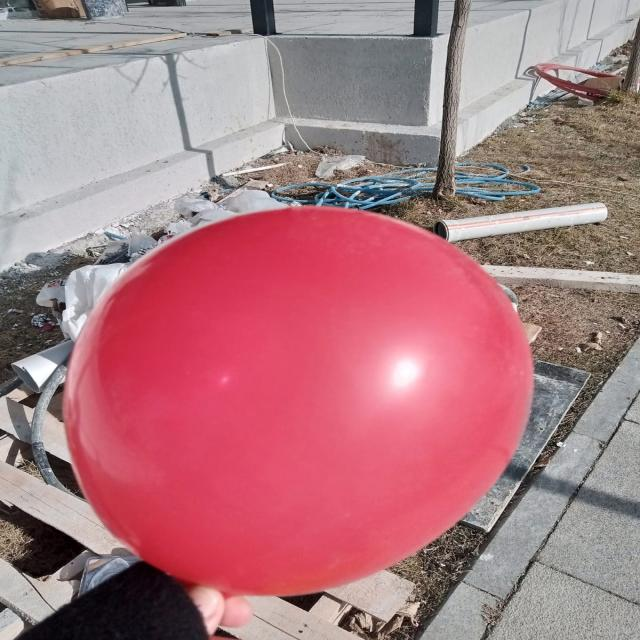balloon: (63, 208, 533, 596)
